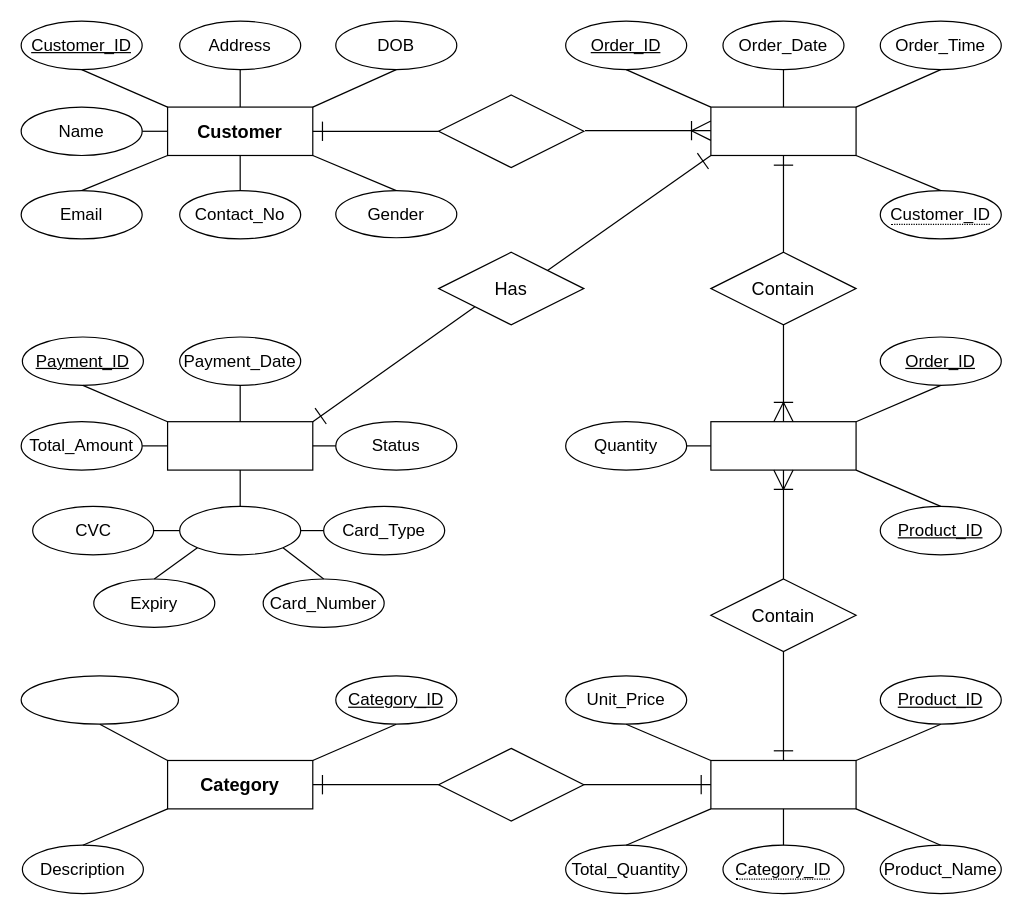
This 1022x915 diagram has some shape labels left out. The shapes that lost their labels are listed below. From the top down, each one's centre as x and y in pixels, then its label:
At point 510,131: "Place".
At point 783,130: "Order".
At point 239,445: "Payment".
At point 783,445: "Order/Product".
At point 239,530: "Card".
At point 99,699: "Category_Name".
At point 510,784: "Belong".
At point 783,784: "Product".
